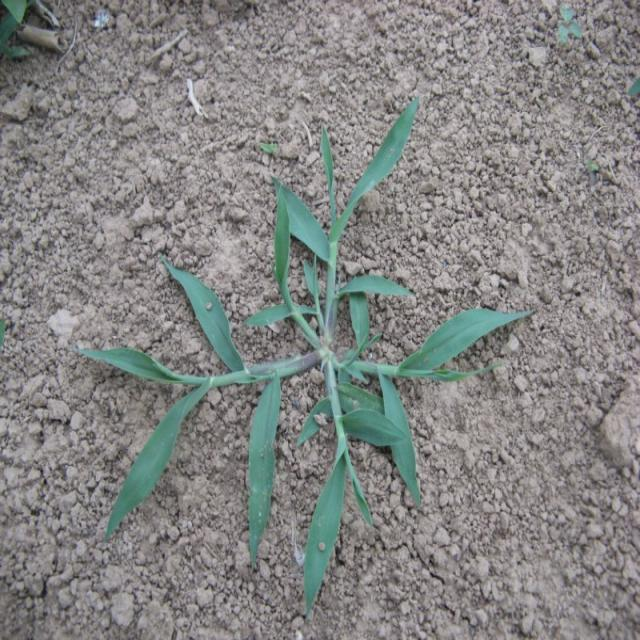bg: (82, 100, 533, 600)
